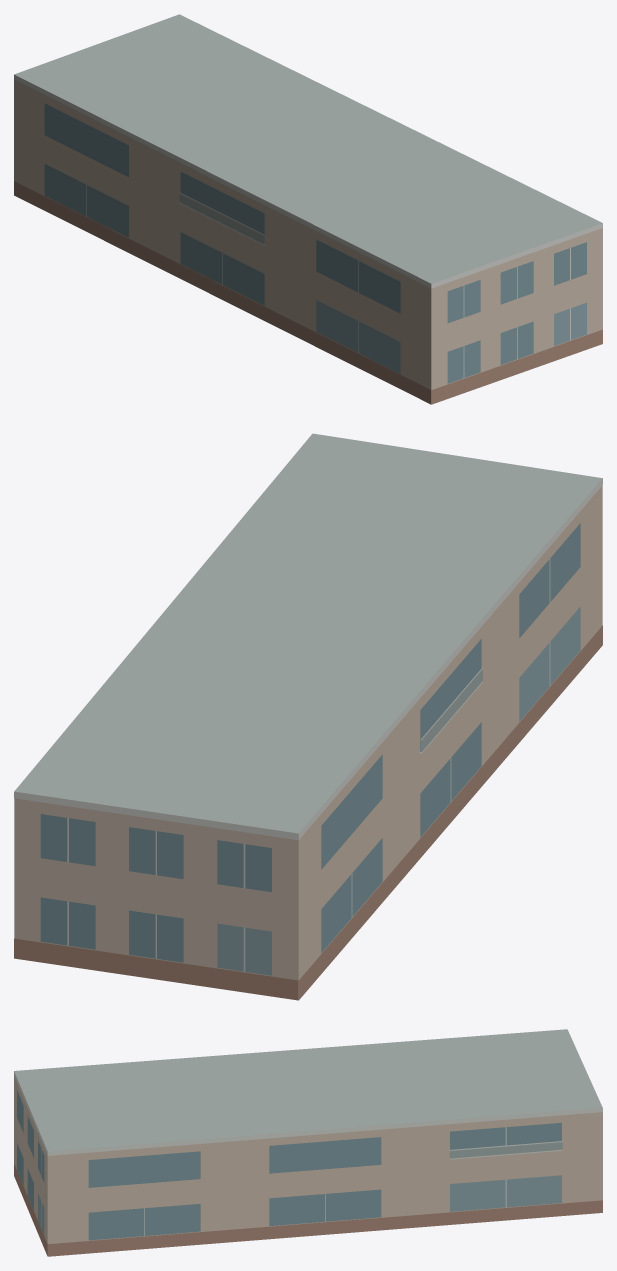
File: survey-upis-32811588.glb
3 renders of one model, top to bottom at view 1: azimuth 30°, elevation 25°; view 2: azimuth 150°, elevation 25°; view 3: azimuth 270°, elevation 25°, orthographic. The views are drawn at different scales.
Parts seen in each view (by area): view 1: survey-upis-32811588.tmp; view 2: survey-upis-32811588.tmp; view 3: survey-upis-32811588.tmp.
Part boxes in pixels (bbox=[...]): survey-upis-32811588.tmp: bbox=[14, 14, 602, 404]; survey-upis-32811588.tmp: bbox=[14, 433, 602, 1000]; survey-upis-32811588.tmp: bbox=[14, 1029, 602, 1256].
Bounding box in the file's own units: 15.29 × 6.1 × 31.03.
